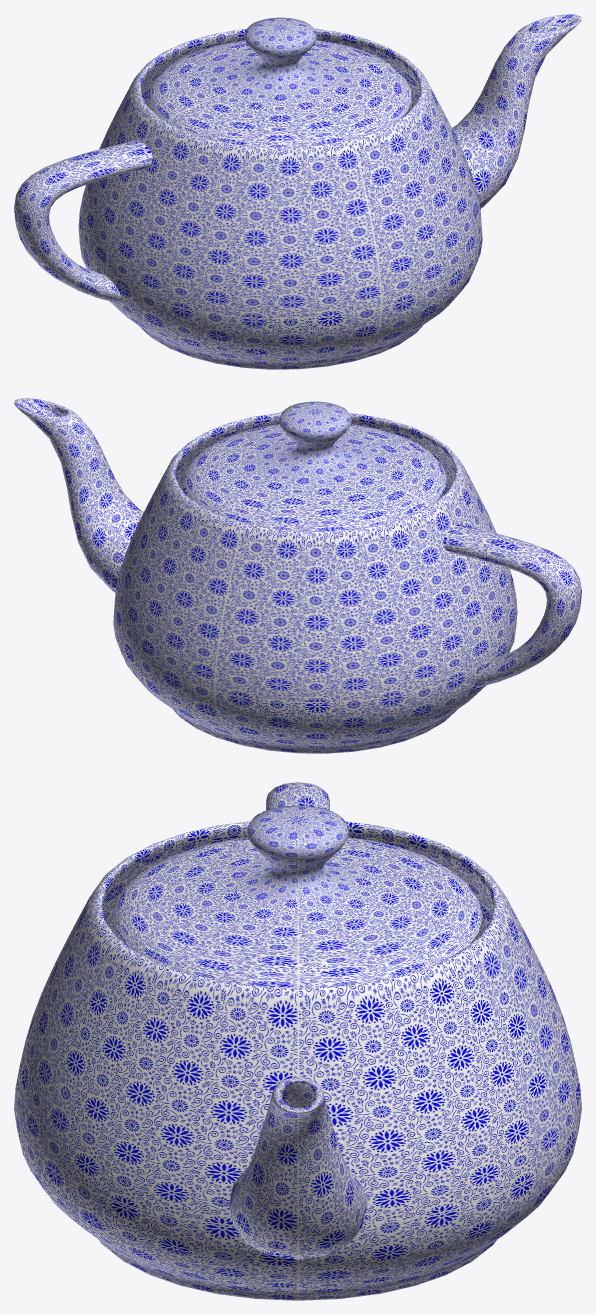
The picture shows the model from 3 angles, top to bottom: view 1: azimuth 30°, elevation 25°; view 2: azimuth 150°, elevation 25°; view 3: azimuth 270°, elevation 25°; orthographic projection. The views are drawn at different scales.
Visible parts, largest first — view 1: Teapot001; view 2: Teapot001; view 3: Teapot001.
Part boxes in pixels (<box>): Teapot001: <box>14,14,581,369</box>; Teapot001: <box>14,398,581,753</box>; Teapot001: <box>14,782,581,1300</box>.
Bounding box in the file's own units: 2361 × 1156 × 1468.
Materials: 1 (1 with a texture image).
